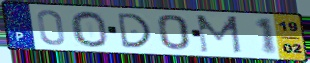0: (156, 13, 194, 52), (35, 8, 67, 46)
1: (254, 17, 278, 56)
D: (115, 12, 153, 49)
M: (194, 14, 244, 55)
O: (69, 10, 110, 48)
